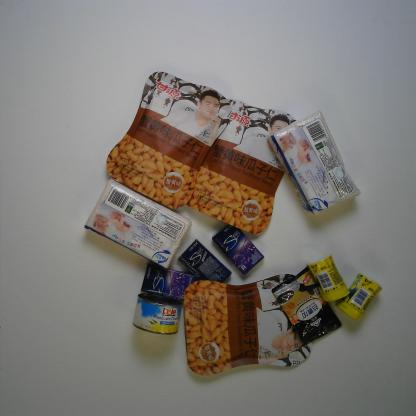Canned Food: (132, 292, 184, 336)
Dried Fruit: (105, 69, 233, 209), (186, 98, 298, 235), (183, 273, 313, 376)
Gum: (212, 224, 266, 276), (334, 271, 383, 323), (177, 238, 232, 284), (305, 251, 351, 303), (140, 262, 198, 302)
Instant Drink: (270, 264, 343, 346)
Tissue: (266, 109, 363, 217), (83, 178, 193, 271)
